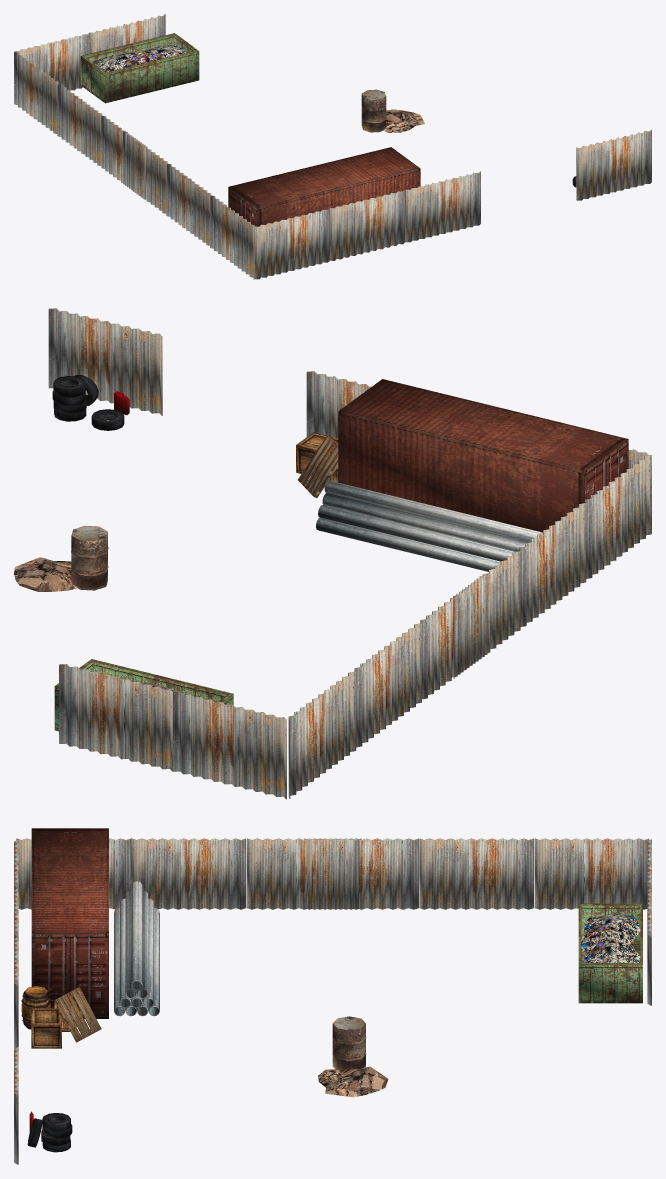
The model's file is djspit-paredes.obj.
The picture shows the model from 3 angles, top to bottom: view 1: azimuth 30°, elevation 25°; view 2: azimuth 150°, elevation 25°; view 3: azimuth 270°, elevation 25°; orthographic projection. The views are drawn at different scales.
Parts seen in each view (by area): view 1: CargoContainer, TrashContainer, MetalSheet, MetalSheet.001, MetalSheet.005, MetalSheet.002, MetalSheet.007, MetalSheet.008, MetalSheet.010, MetalSheet.011, MetalSheet.004, MetalSheet.009 (+6 smaller); view 2: CargoContainer, MetalPipePile, MetalSheet.004, MetalSheet.003, MetalSheet.005, MetalSheet.011, MetalSheet.007, MetalSheet.008, MetalSheet.010, MetalSheet.006, MetalSheet.009, MetalSheet.002 (+6 smaller); view 3: CargoContainer, MetalSheet.010, MetalSheet.007, MetalSheet.011, MetalSheet.006, MetalSheet.009, MetalPipePile, TrashContainer, MetalSheet.008, BarrelOil, PileDebris, PileTrash.001 (+8 smaller).
Part boxes in pixels (box(x1,y1,x2,y2)): CargoContainer: box(228, 147, 420, 226); TrashContainer: box(80, 33, 199, 103); MetalSheet: box(254, 208, 329, 279); MetalSheet.001: box(330, 190, 405, 260); MetalSheet.005: box(576, 129, 651, 200); MetalSheet.002: box(405, 171, 480, 242); MetalSheet.007: box(166, 163, 211, 247); MetalSheet.008: box(210, 195, 254, 279); MetalSheet.010: box(57, 84, 102, 165); MetalSheet.011: box(14, 52, 58, 135); MetalSheet.004: box(14, 32, 90, 90); MetalSheet.009: box(101, 115, 145, 199); CargoContainer: box(338, 379, 628, 532); MetalPipePile: box(316, 480, 542, 571); MetalSheet.004: box(173, 692, 286, 799); MetalSheet.003: box(59, 664, 172, 771); MetalSheet.005: box(48, 308, 162, 415); MetalSheet.011: box(288, 671, 355, 798); MetalSheet.007: box(519, 503, 586, 629); MetalSheet.008: box(584, 455, 651, 578); MetalSheet.010: box(354, 623, 421, 750); MetalSheet.006: box(453, 551, 520, 678); MetalSheet.009: box(420, 575, 487, 699); MetalSheet.002: box(306, 371, 371, 437); CargoContainer: box(31, 828, 108, 1018); MetalSheet.010: box(419, 838, 533, 909); MetalSheet.007: box(131, 838, 246, 909); MetalSheet.011: box(534, 838, 649, 909); MetalSheet.006: box(247, 838, 361, 909); MetalSheet.009: box(304, 838, 418, 909); MetalPipePile: box(114, 881, 159, 1016); TrashContainer: box(578, 903, 642, 1003); MetalSheet.008: box(16, 838, 131, 909); BarrelOil: box(332, 1016, 366, 1069); PileDebris: box(318, 1066, 388, 1097); PileTrash.001: box(581, 913, 640, 950).
Bounding box in the file's own units: 57.16 × 8.93 × 59.95.
